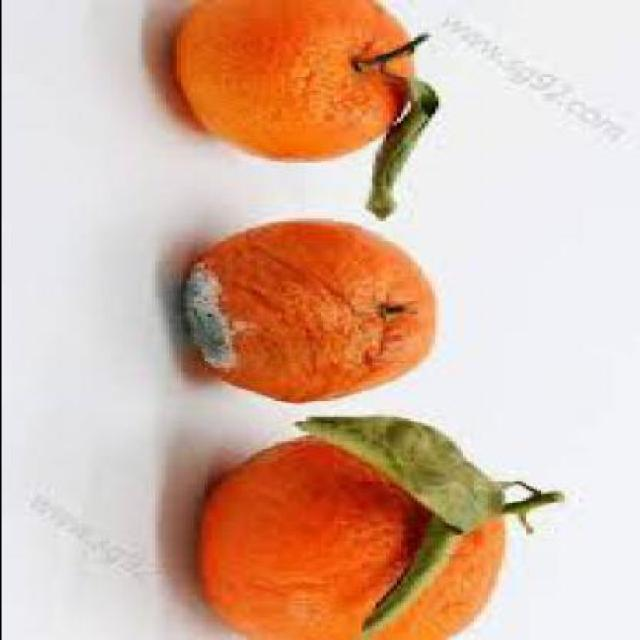BIODEGRADABLE: (196, 433, 510, 638), (181, 216, 437, 402), (174, 0, 420, 162), (294, 414, 503, 528), (350, 32, 441, 218), (360, 516, 462, 633), (493, 482, 564, 529)
